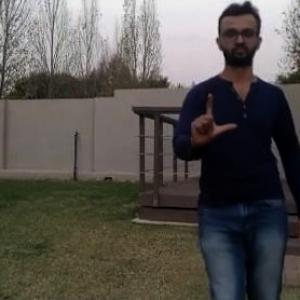land_hand: (180, 87, 234, 151)
